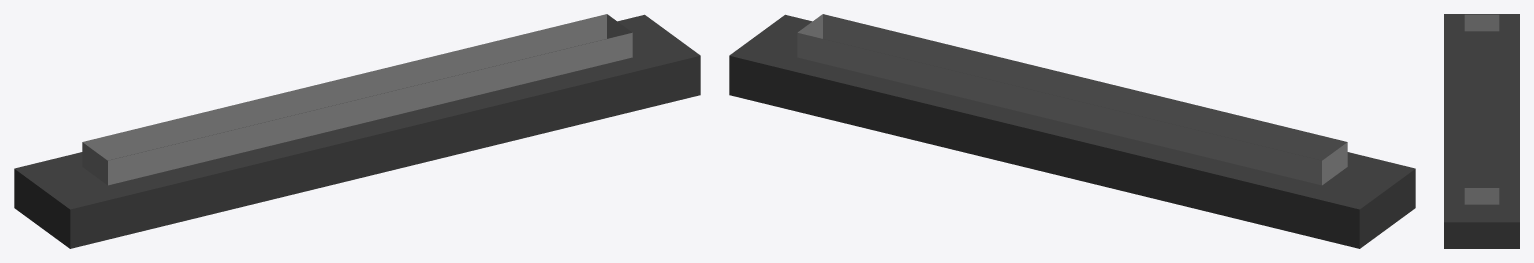
Rendered from Ceiling Lamp 1.fbx.
3 renders of one model, left to right at view 1: azimuth 30°, elevation 25°; view 2: azimuth 150°, elevation 25°; view 3: azimuth 270°, elevation 25°, orthographic. The views are drawn at different scales.
Visible parts, largest first — view 1: Ceiling Lamp 1; view 2: Ceiling Lamp 1; view 3: Ceiling Lamp 1.
Boxes of the visible parts, x1,y1,x2,y2 form: Ceiling Lamp 1: [14, 14, 700, 248]; Ceiling Lamp 1: [729, 14, 1415, 248]; Ceiling Lamp 1: [1444, 14, 1519, 248].
Bounding box in the file's own units: 108 × 11.1 × 16.57.
